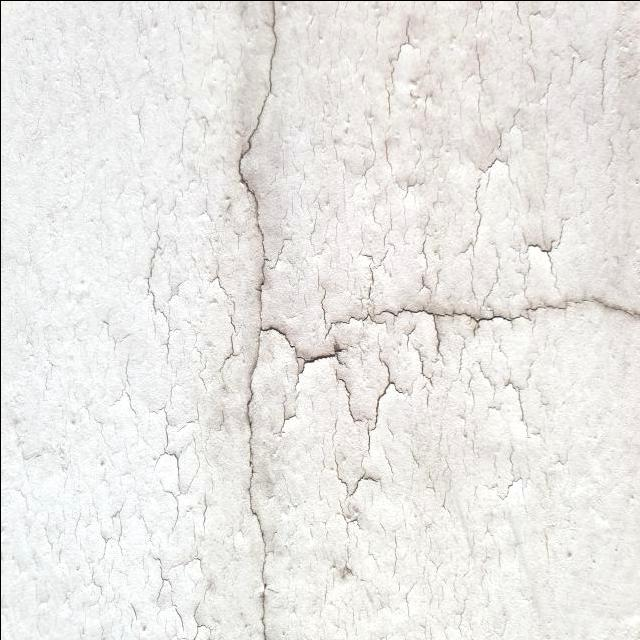SurfaceCrack: (194, 1, 345, 639)
